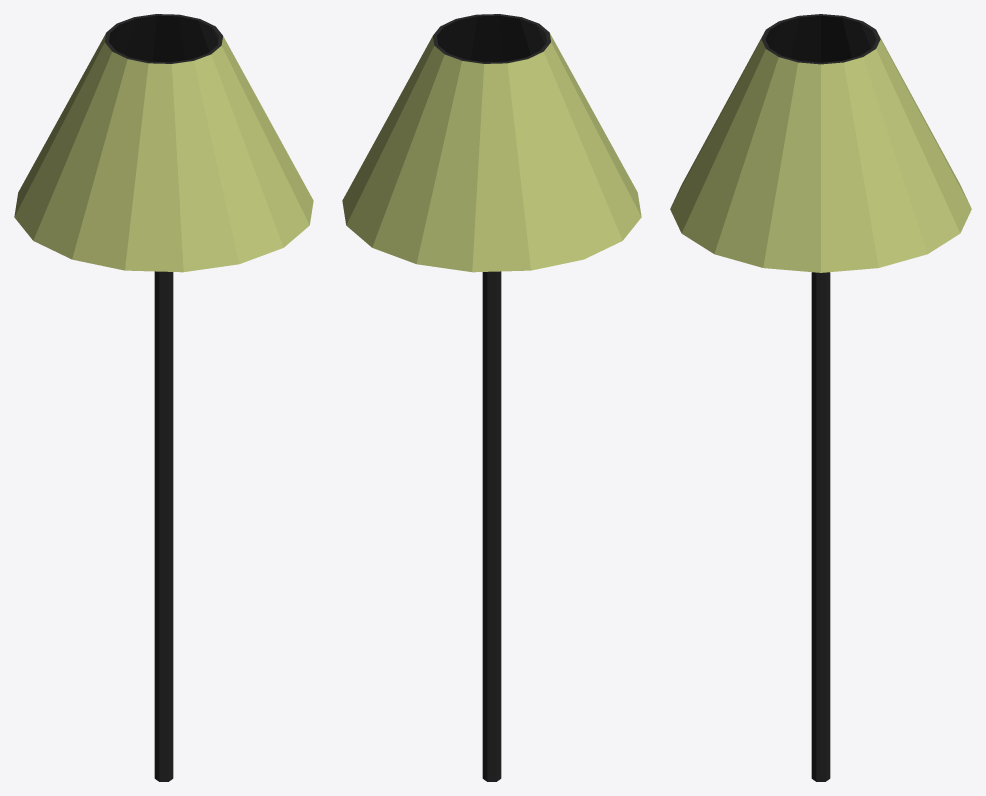
The model's file is C_lamp_house.fbx.
3 renders of one model, left to right at view 1: azimuth 30°, elevation 25°; view 2: azimuth 150°, elevation 25°; view 3: azimuth 270°, elevation 25°, orthographic.
Parts seen in each view (by area): view 1: C_lamp_house; view 2: C_lamp_house; view 3: C_lamp_house.
Part boxes in pixels (x1,y1,x2,y2): C_lamp_house: (14,14,313,781); C_lamp_house: (342,14,641,781); C_lamp_house: (670,14,971,781).
Size of the model in its own units: 0.6438 by 0.6438 by 1.74.
